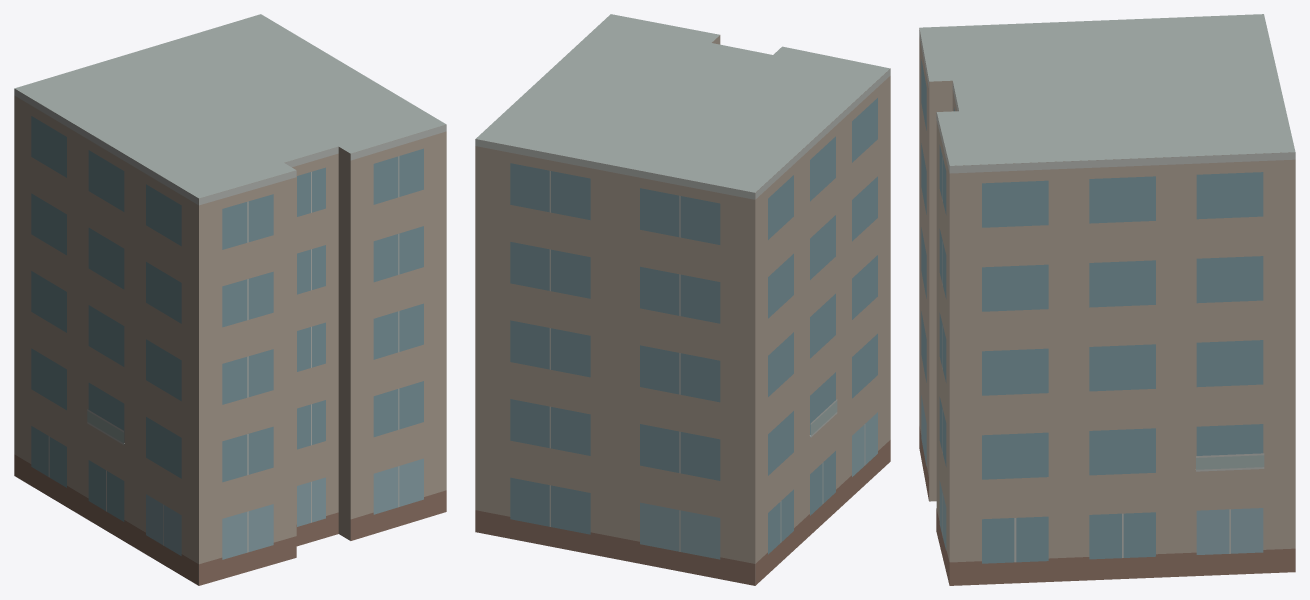
Rendered from survey-upis-32561557.glb.
The picture shows the model from 3 angles, left to right: view 1: azimuth 30°, elevation 25°; view 2: azimuth 150°, elevation 25°; view 3: azimuth 270°, elevation 25°; orthographic projection. The views are drawn at different scales.
Parts seen in each view (by area): view 1: survey-upis-32561557.tmp; view 2: survey-upis-32561557.tmp; view 3: survey-upis-32561557.tmp.
Boxes of the visible parts, x1,y1,x2,y2 form: survey-upis-32561557.tmp: [14, 14, 446, 585]; survey-upis-32561557.tmp: [475, 14, 890, 585]; survey-upis-32561557.tmp: [919, 14, 1295, 585].
Size of the model in its own units: 10.57 by 13.6 by 11.05.
